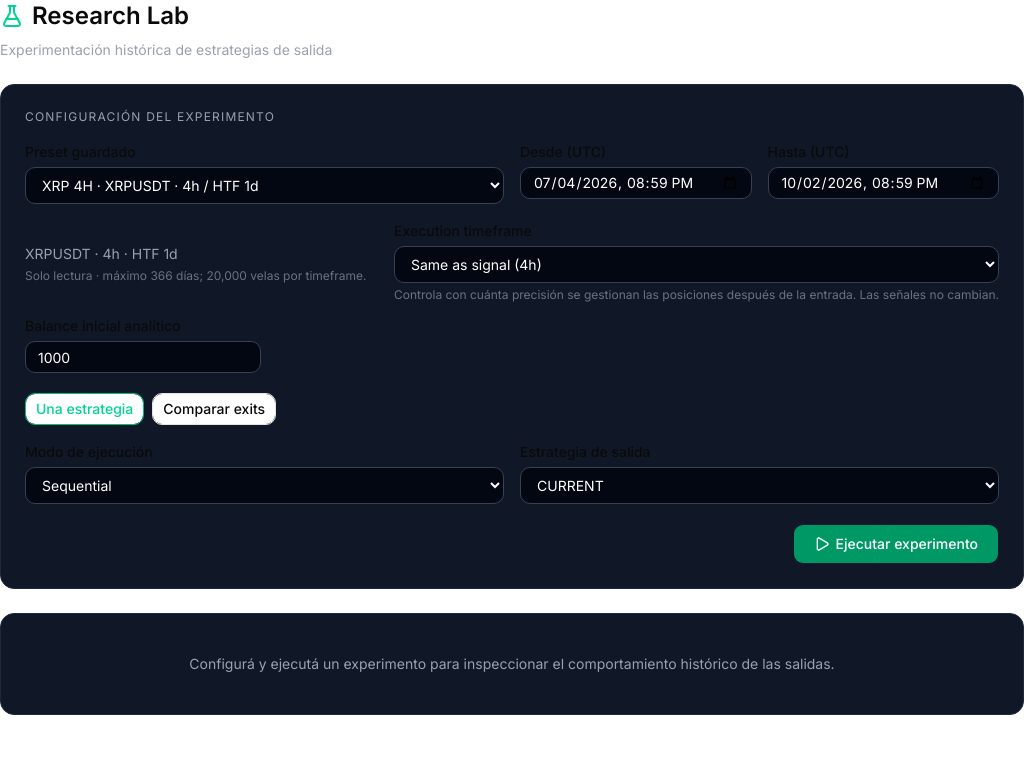
Test: Research Lab › shows request errors without fabricated zero results
Expected: the dropdown labelled "Preset guardado" is shown, top-left (25, 167), bottom-right (504, 204)
Click the button "Ejecutar experimento": (896,544) top-left (792, 524), bottom-right (999, 564)
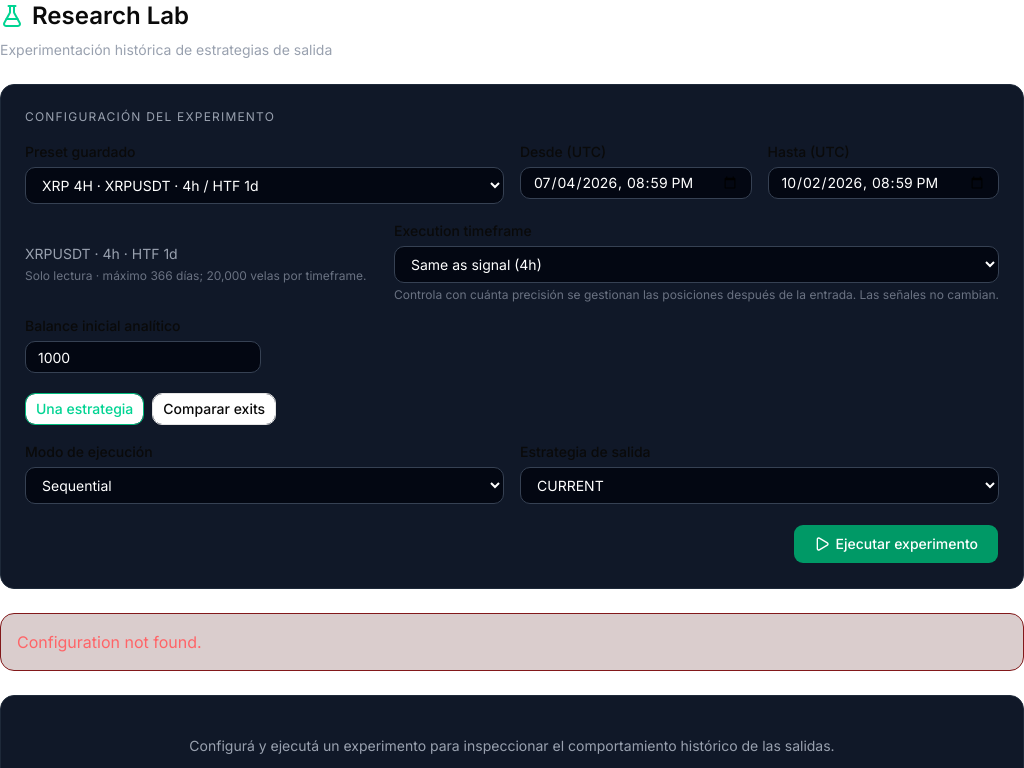
Now the message reads "Configuration not found.", box top-left (17, 632), bottom-right (202, 652)
